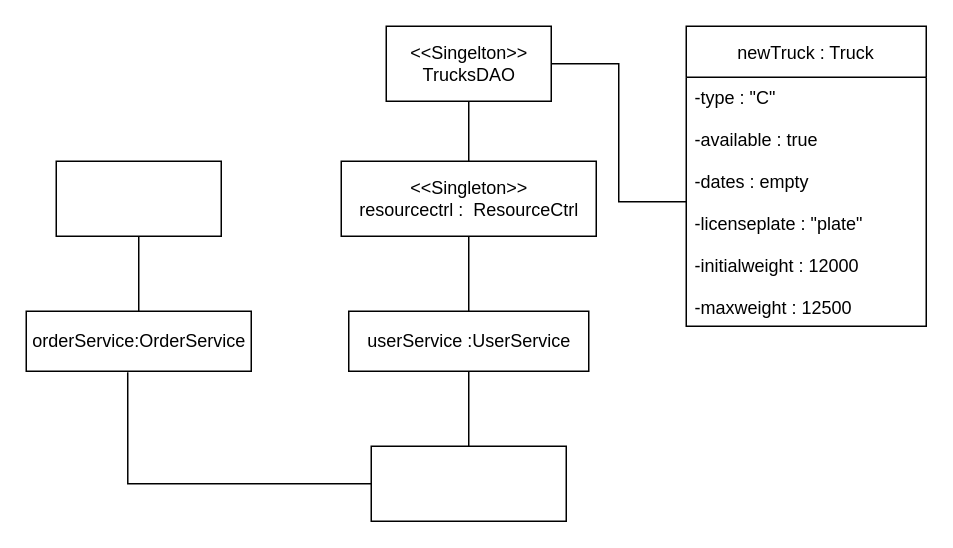
Some shapes in this 953 by 548 pixel diagram are drawn without their labels. The shapes that lost their labels are listed below. From the top down, each one's box as (x1, y1, x2, y2) in pixels, then its label:
(55, 160, 221, 236): <<Singelton>> orderCtrl:OrderCtrl
(370, 445, 566, 521): interface:UserInterface
